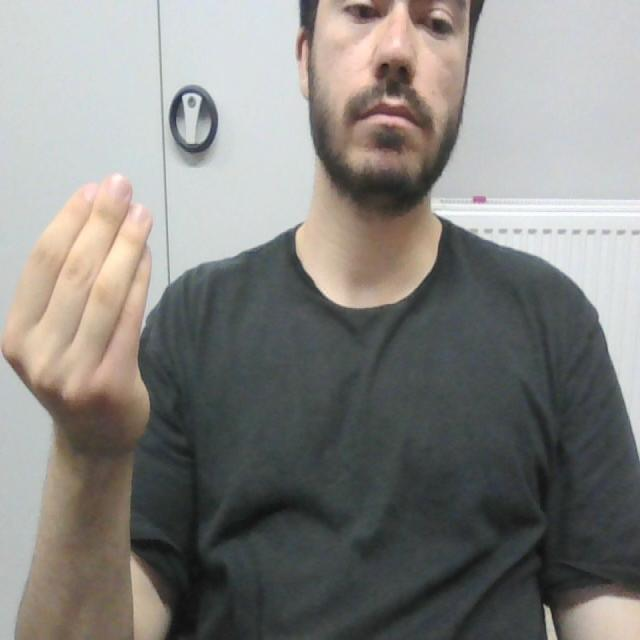iyi: (3, 172, 158, 365)
